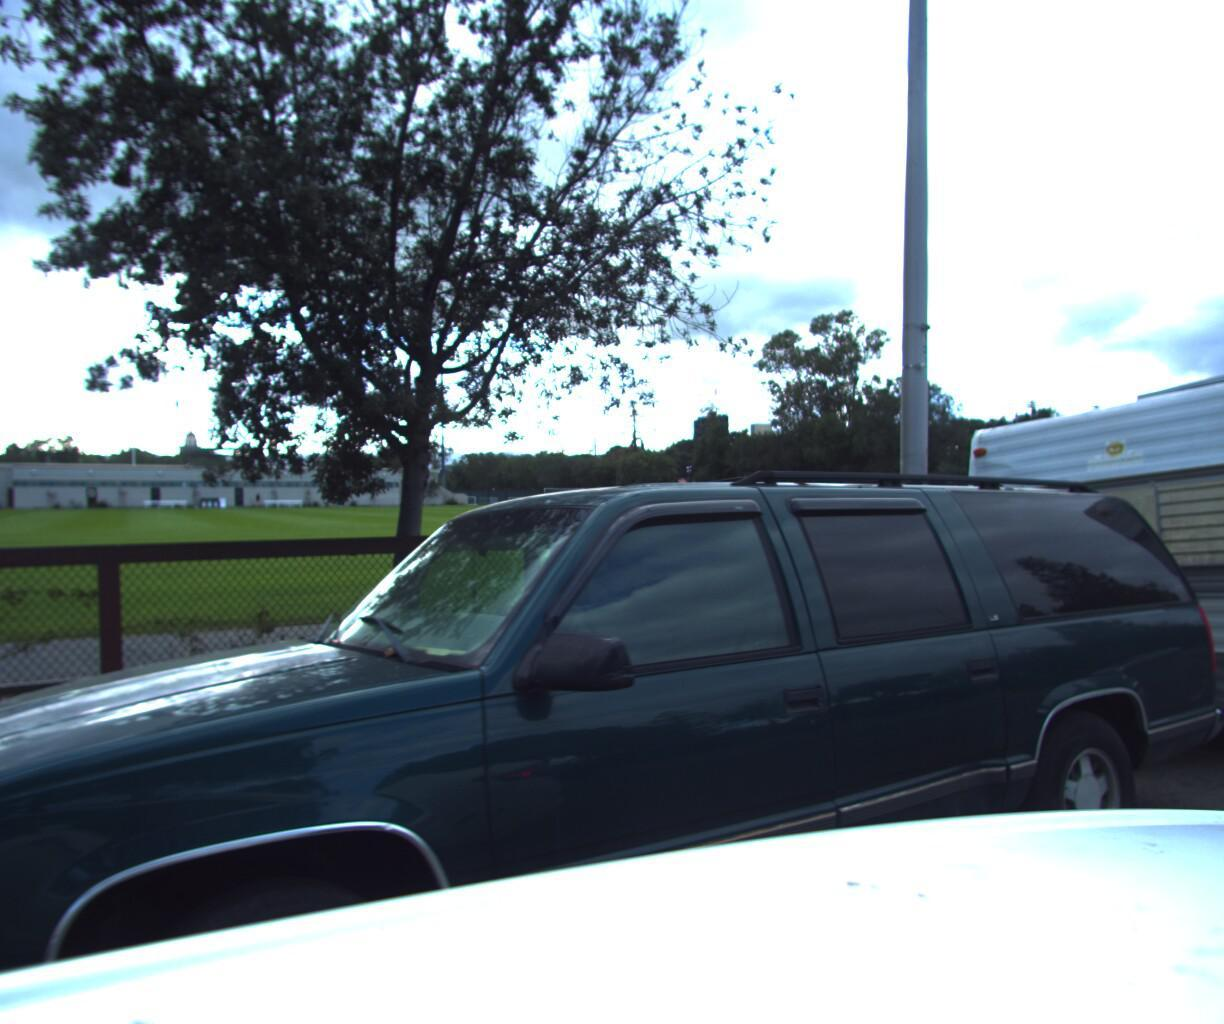car: (0, 459, 1224, 1024)
other_vehicle: (922, 307, 1224, 835)
